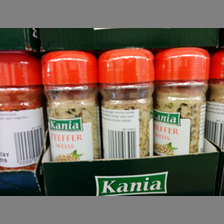spices: (98, 48, 155, 159), (42, 51, 99, 161), (155, 47, 211, 155), (1, 50, 43, 172)
